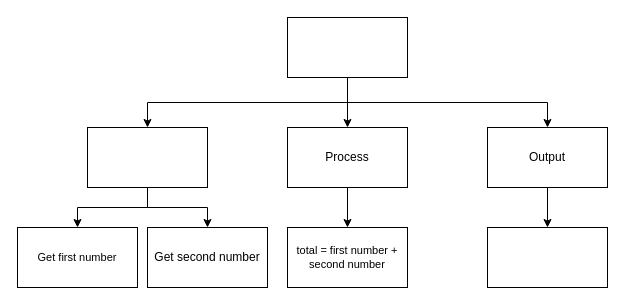
Image size: 625x305. Some labels were removed from this diagram. The shapes that lost their labels are listed below. From the top down, each one's centre as x and y in pixels, then its label:
point (347, 47): Adding 2 numbers
point (147, 157): Input
point (547, 257): Show total
